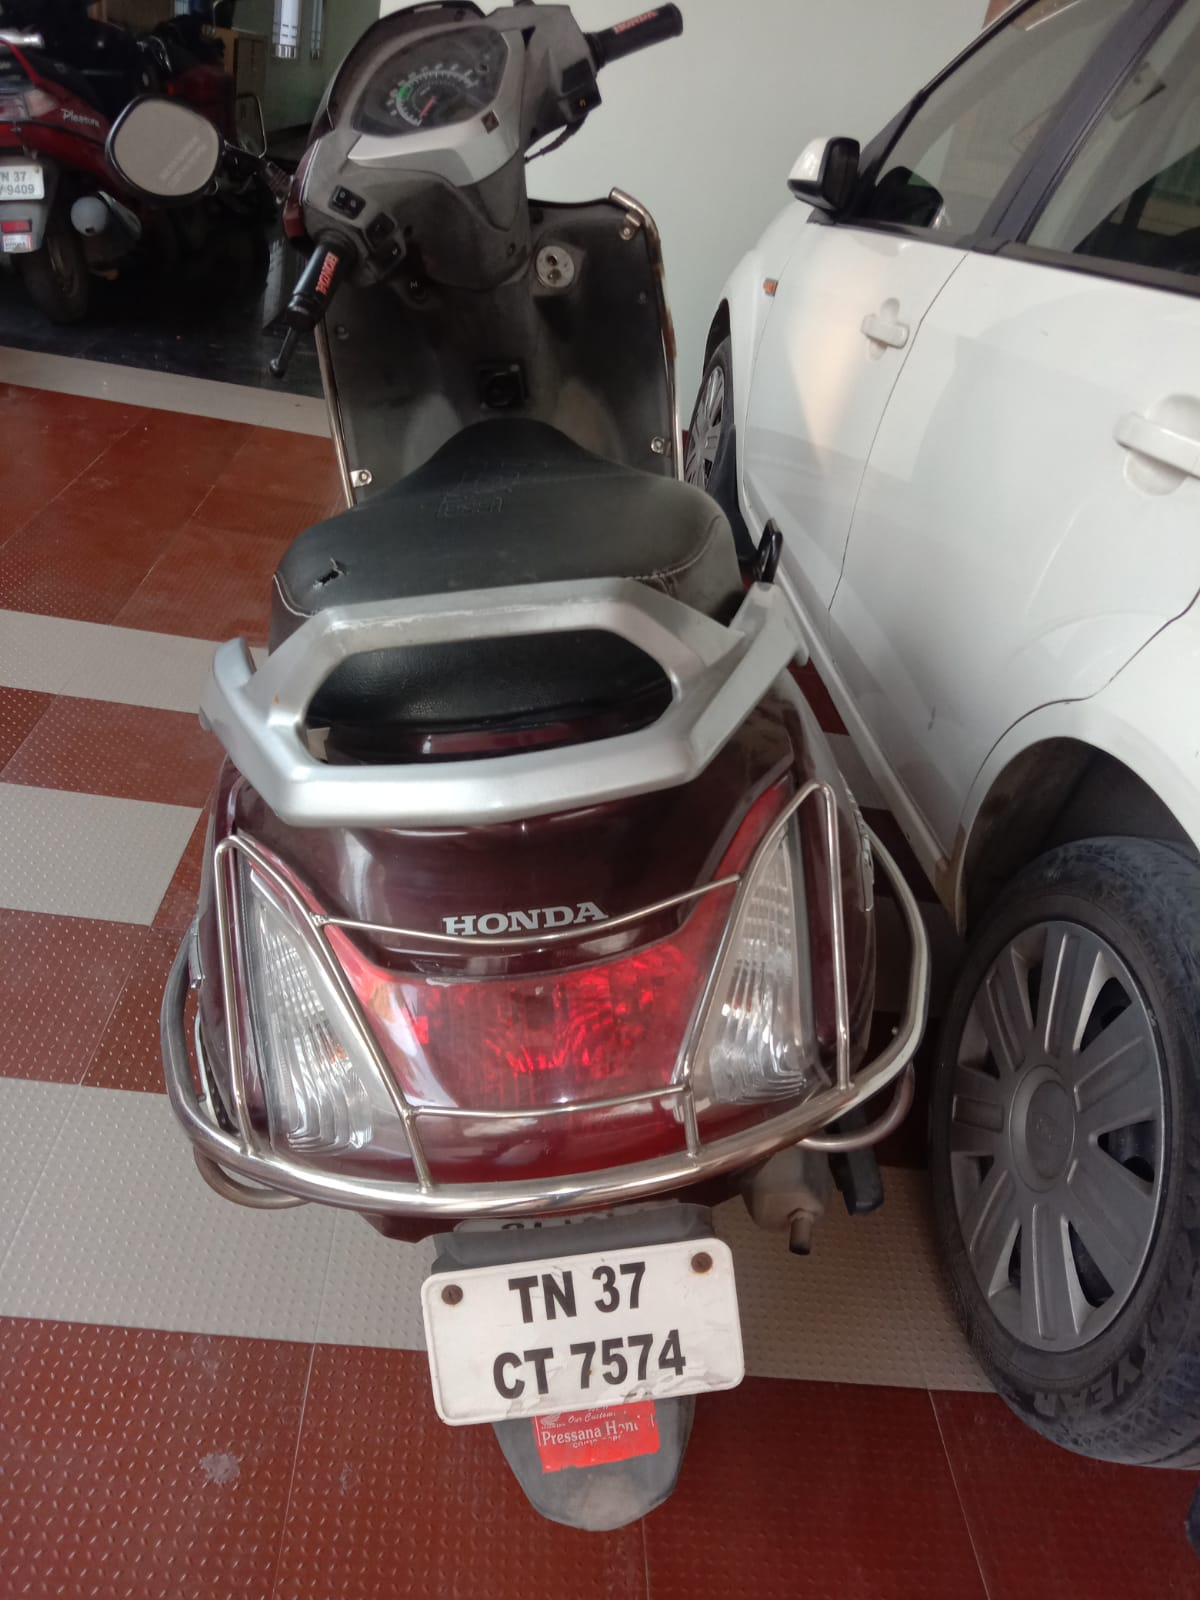numberplate: (389, 1227, 804, 1450)
scooter: (96, 8, 942, 1560)
